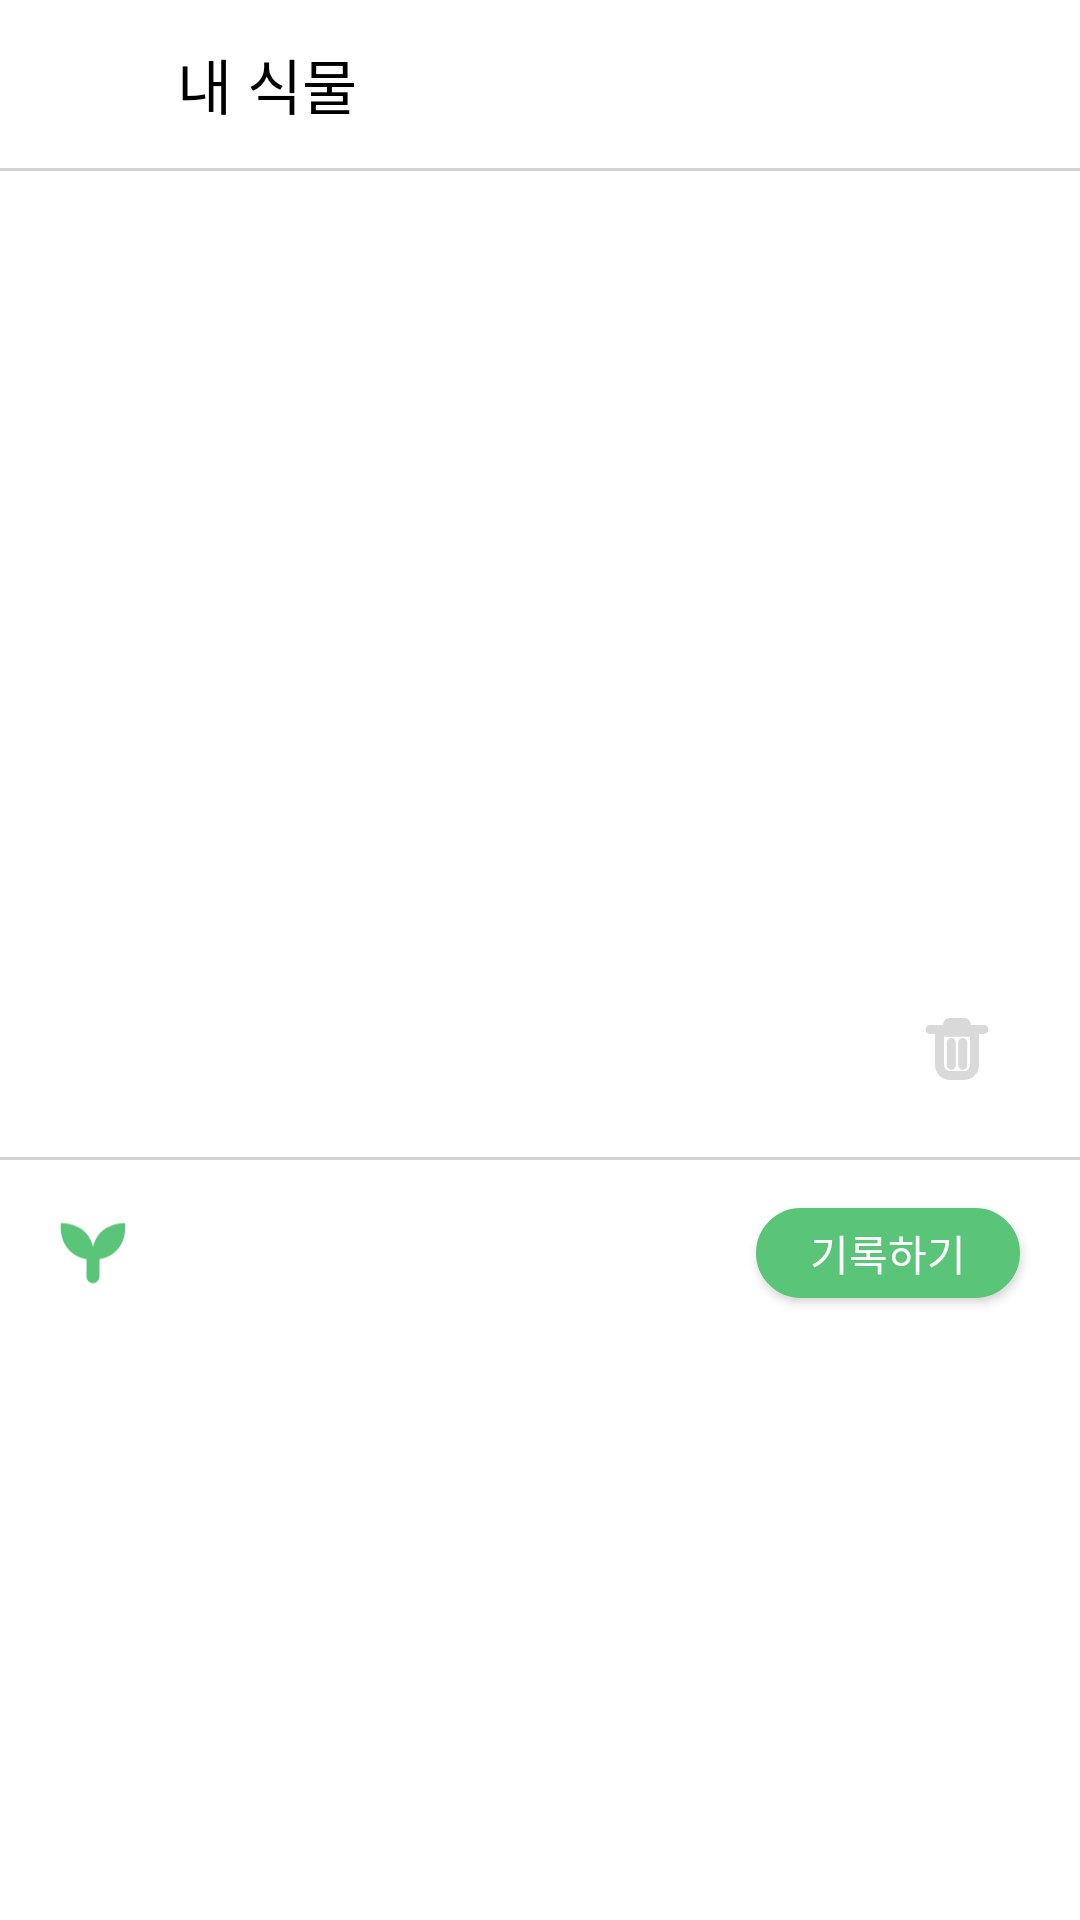

Point at icon controls on the screen. Image size 1080×1920, points as [x,y].
deletemyplant: [957,1049]
